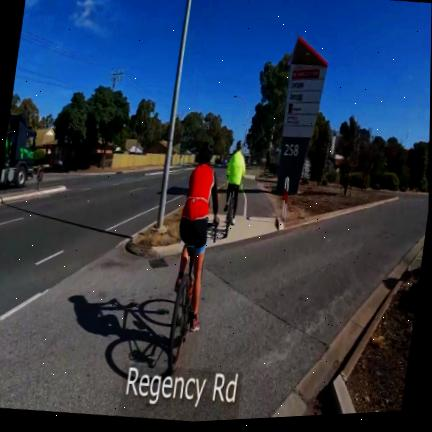Bike_Lane: (236, 179, 274, 217), (218, 180, 226, 216)
